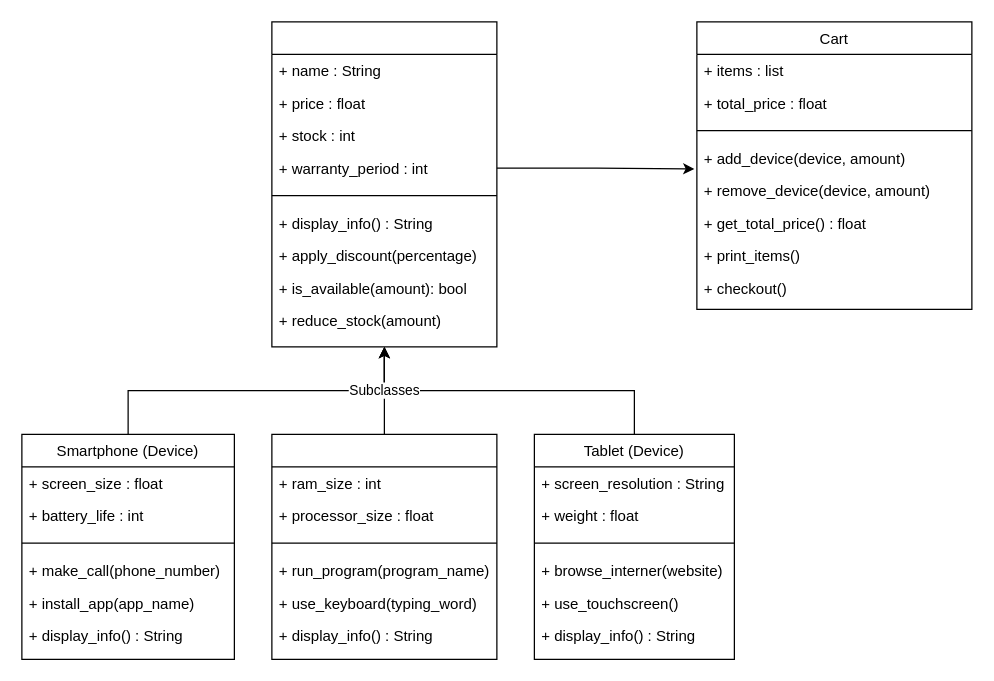
Image size: 994x681. Some labels were removed from this diagram. The box of each missing label's shape, as (x1, y1, x2, y2) in pixels:
Device: (271, 21, 497, 347)
Laptop (Device): (271, 433, 497, 659)
